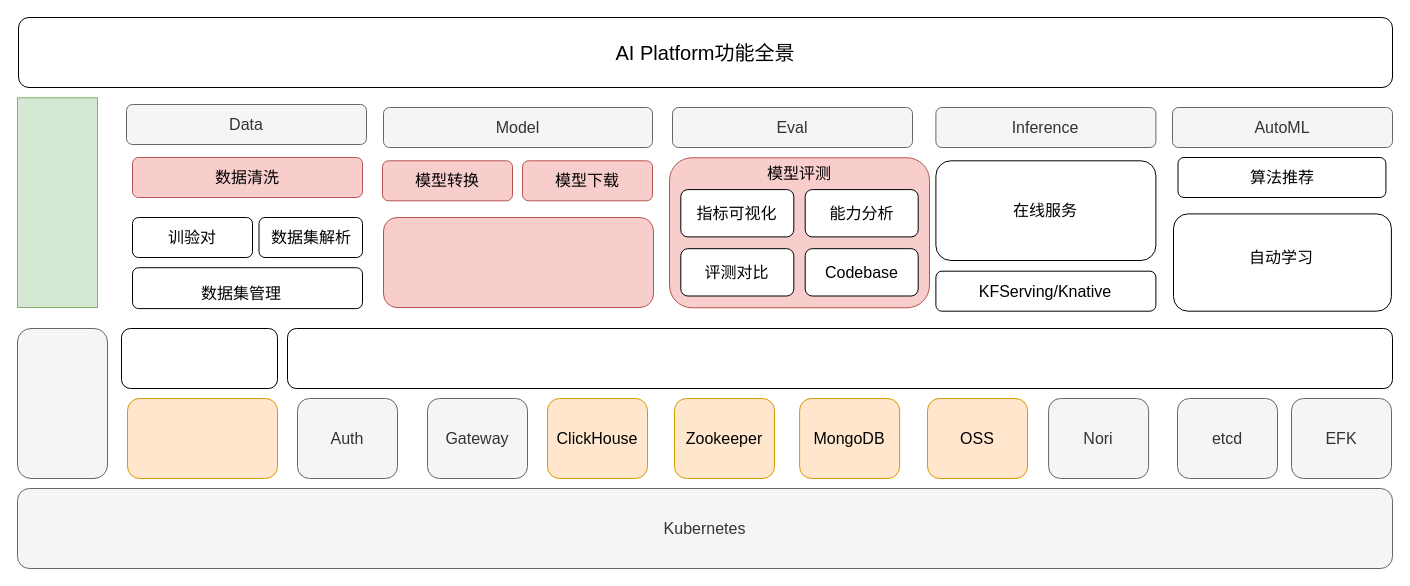
This 1410x586 diagram has some shape labels left out. Each missing label, with the centre of its shape:
"AJob" belongs at pixel 202 438.
"AJobEnsurement" belongs at pixel 199 358.
"Brain++ AI Platform" belongs at pixel 57 202.
"Service Wrapper" belongs at pixel 839 358.
"基础能力层" belongs at pixel 62 403.
"模型管理" belongs at pixel 518 262.
